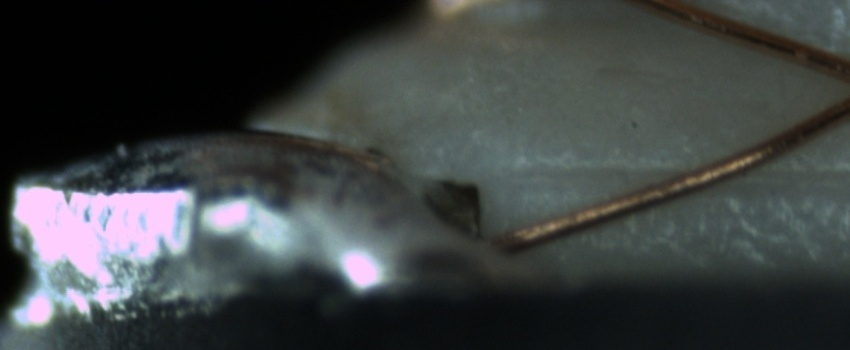DL: (512, 142, 849, 204)
